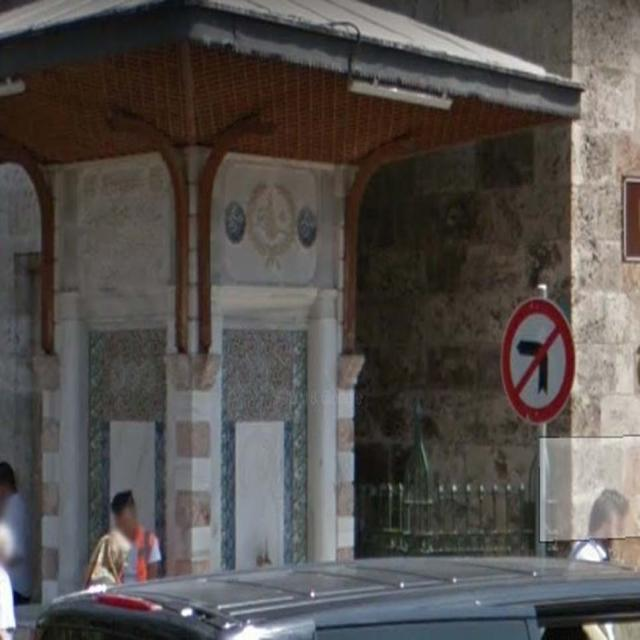soladonulmez: (499, 298, 575, 426)
